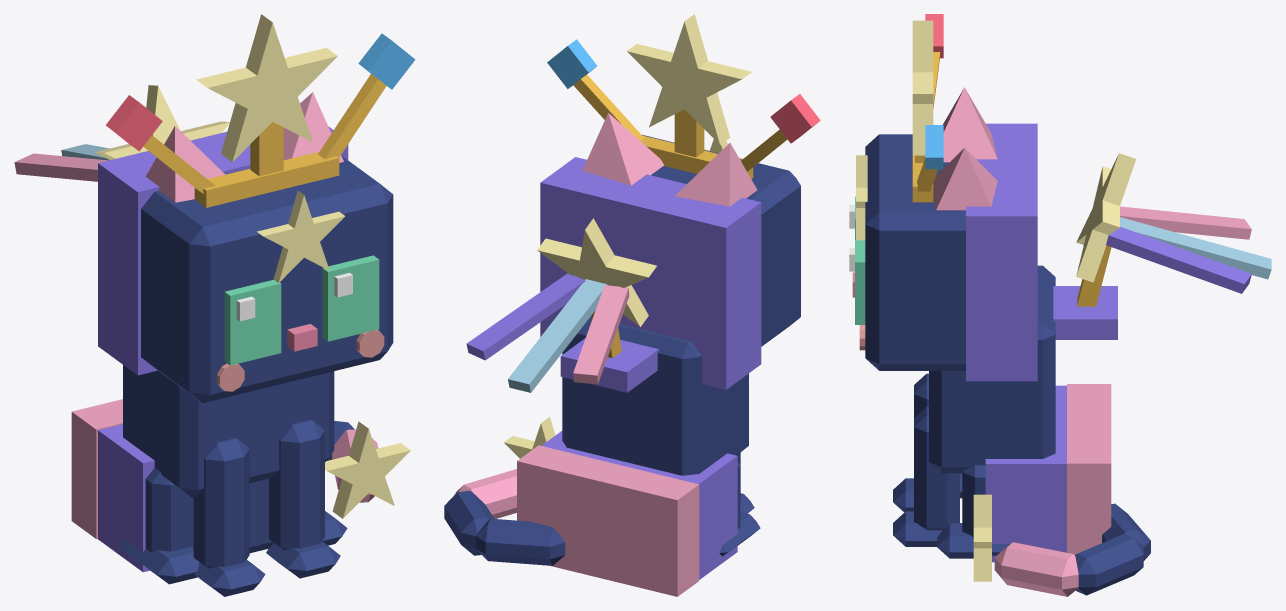
The model's file is CleanACat_Cat_Stardust_Sit_Lite.fbx.
3 views of the same model, side by side, from view 1: azimuth 30°, elevation 25°; view 2: azimuth 150°, elevation 25°; view 3: azimuth 270°, elevation 25° (orthographic). The views are drawn at different scales.
Parts seen in each view (by area): view 1: CleanACat_Cat_Stardust_Sit_Lite_Head, CleanACat_Cat_Stardust_Sit_Lite_Body, CleanACat_Cat_Stardust_Sit_Lite_Prop, CleanACat_Cat_Stardust_Sit_Lite_LegF2, CleanACat_Cat_Stardust_Sit_Lite_LegF1, CleanACat_Cat_Stardust_Sit_Lite_Eye2, CleanACat_Cat_Stardust_Sit_Lite_Eye1, CleanACat_Cat_Stardust_Sit_Lite_Prop2, CleanACat_Cat_Stardust_Sit_Lite_Tail_Star, CleanACat_Cat_Stardust_Sit_Lite_Glow, CleanACat_Cat_Stardust_Sit_Lite_EarR, CleanACat_Cat_Stardust_Sit_Lite_EarL (+1 smaller); view 2: CleanACat_Cat_Stardust_Sit_Lite_Body, CleanACat_Cat_Stardust_Sit_Lite_Head, CleanACat_Cat_Stardust_Sit_Lite_Prop2, CleanACat_Cat_Stardust_Sit_Lite_Prop, CleanACat_Cat_Stardust_Sit_Lite_Tail, CleanACat_Cat_Stardust_Sit_Lite_EarL, CleanACat_Cat_Stardust_Sit_Lite_EarR, CleanACat_Cat_Stardust_Sit_Lite_Glow, CleanACat_Cat_Stardust_Sit_Lite_Tail_Star; view 3: CleanACat_Cat_Stardust_Sit_Lite_Head, CleanACat_Cat_Stardust_Sit_Lite_Body, CleanACat_Cat_Stardust_Sit_Lite_Prop2, CleanACat_Cat_Stardust_Sit_Lite_Tail, CleanACat_Cat_Stardust_Sit_Lite_LegF1, CleanACat_Cat_Stardust_Sit_Lite_Prop, CleanACat_Cat_Stardust_Sit_Lite_EarL, CleanACat_Cat_Stardust_Sit_Lite_EarR, CleanACat_Cat_Stardust_Sit_Lite_Tail_Star, CleanACat_Cat_Stardust_Sit_Lite_Glow, CleanACat_Cat_Stardust_Sit_Lite_LegF2, CleanACat_Cat_Stardust_Sit_Lite_Eye1.
Boxes of the visible parts, left/top/right/bottom form: CleanACat_Cat_Stardust_Sit_Lite_Head: left=98, top=126, right=393, bottom=403; CleanACat_Cat_Stardust_Sit_Lite_Body: left=71, top=365, right=347, bottom=584; CleanACat_Cat_Stardust_Sit_Lite_Prop: left=143, top=14, right=386, bottom=207; CleanACat_Cat_Stardust_Sit_Lite_LegF2: left=193, top=438, right=265, bottom=596; CleanACat_Cat_Stardust_Sit_Lite_LegF1: left=266, top=419, right=340, bottom=578; CleanACat_Cat_Stardust_Sit_Lite_Eye2: left=224, top=279, right=281, bottom=365; CleanACat_Cat_Stardust_Sit_Lite_Eye1: left=322, top=255, right=379, bottom=341; CleanACat_Cat_Stardust_Sit_Lite_Prop2: left=14, top=85, right=229, bottom=181; CleanACat_Cat_Stardust_Sit_Lite_Tail_Star: left=325, top=421, right=410, bottom=518; CleanACat_Cat_Stardust_Sit_Lite_Glow: left=106, top=33, right=415, bottom=151; CleanACat_Cat_Stardust_Sit_Lite_EarR: left=145, top=126, right=224, bottom=202; CleanACat_Cat_Stardust_Sit_Lite_EarL: left=283, top=92, right=343, bottom=162; CleanACat_Cat_Stardust_Sit_Lite_Body: left=517, top=317, right=760, bottom=596; CleanACat_Cat_Stardust_Sit_Lite_Head: left=540, top=135, right=800, bottom=389; CleanACat_Cat_Stardust_Sit_Lite_Prop2: left=466, top=218, right=658, bottom=392; CleanACat_Cat_Stardust_Sit_Lite_Prop: left=573, top=14, right=787, bottom=178; CleanACat_Cat_Stardust_Sit_Lite_Tail: left=444, top=469, right=565, bottom=565; CleanACat_Cat_Stardust_Sit_Lite_EarL: left=582, top=113, right=663, bottom=185; CleanACat_Cat_Stardust_Sit_Lite_EarR: left=675, top=142, right=757, bottom=206; CleanACat_Cat_Stardust_Sit_Lite_Glow: left=547, top=39, right=820, bottom=143; CleanACat_Cat_Stardust_Sit_Lite_Tail_Star: left=504, top=417, right=555, bottom=458; CleanACat_Cat_Stardust_Sit_Lite_Head: left=852, top=123, right=1037, bottom=381; CleanACat_Cat_Stardust_Sit_Lite_Body: left=929, top=265, right=1111, bottom=562; CleanACat_Cat_Stardust_Sit_Lite_Prop2: left=1053, top=153, right=1271, bottom=339; CleanACat_Cat_Stardust_Sit_Lite_Tail: left=994, top=503, right=1150, bottom=596; CleanACat_Cat_Stardust_Sit_Lite_LegF1: left=893, top=406, right=959, bottom=546; CleanACat_Cat_Stardust_Sit_Lite_Prop: left=912, top=20, right=940, bottom=202; CleanACat_Cat_Stardust_Sit_Lite_EarL: left=933, top=148, right=997, bottom=210; CleanACat_Cat_Stardust_Sit_Lite_EarR: left=943, top=87, right=997, bottom=162; CleanACat_Cat_Stardust_Sit_Lite_Tail_Star: left=973, top=494, right=991, bottom=581; CleanACat_Cat_Stardust_Sit_Lite_Glow: left=925, top=14, right=943, bottom=169; CleanACat_Cat_Stardust_Sit_Lite_LegF2: left=893, top=373, right=928, bottom=512; CleanACat_Cat_Stardust_Sit_Lite_Eye1: left=849, top=239, right=865, bottom=324.
Size of the model in its own units: 1.45 by 2.29 by 1.74.
Materials: 1 (1 with a texture image).
